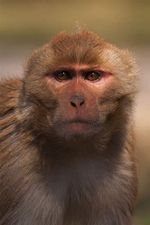monkey: (19, 14, 145, 208)
